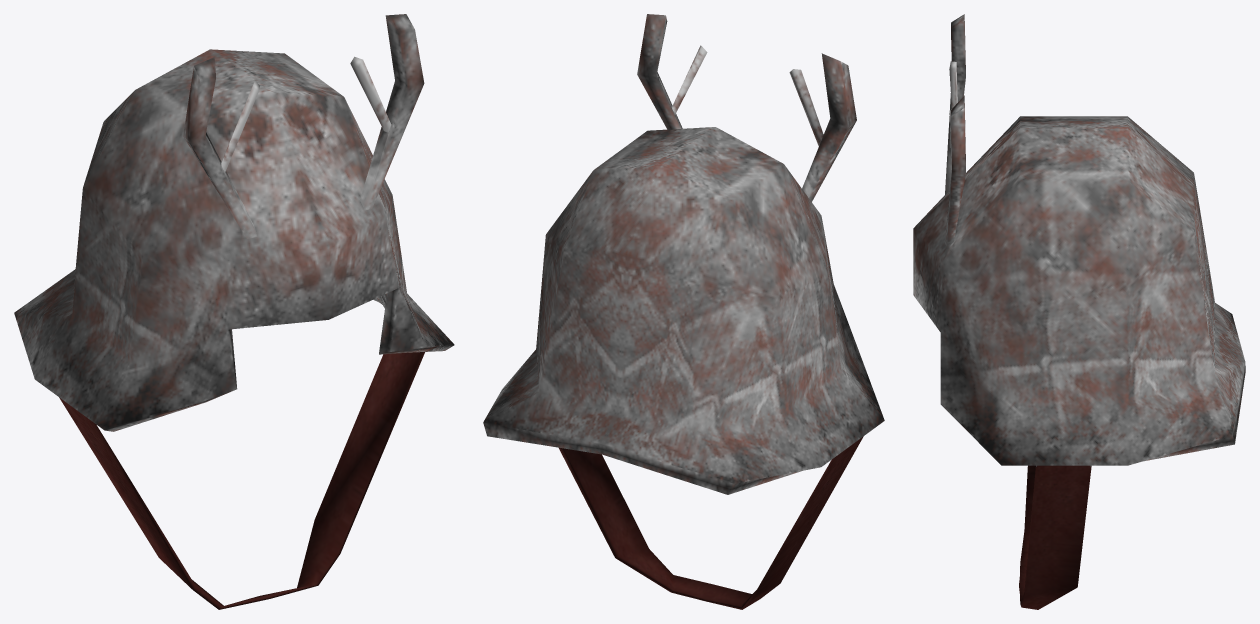
File: helmet1.glb
The picture shows the model from 3 angles, left to right: view 1: azimuth 30°, elevation 25°; view 2: azimuth 150°, elevation 25°; view 3: azimuth 270°, elevation 25°; orthographic projection. The views are drawn at different scales.
Visible parts, largest first — view 1: helmet hiver; view 2: helmet hiver; view 3: helmet hiver.
Boxes of the visible parts, box(x1,y1,x2,y2) form: helmet hiver: box(14, 14, 454, 609); helmet hiver: box(483, 14, 884, 609); helmet hiver: box(913, 14, 1245, 609).
Size of the model in its own units: 0.3201 by 0.5172 by 0.2913.
Materials: 1 (1 with a texture image).
